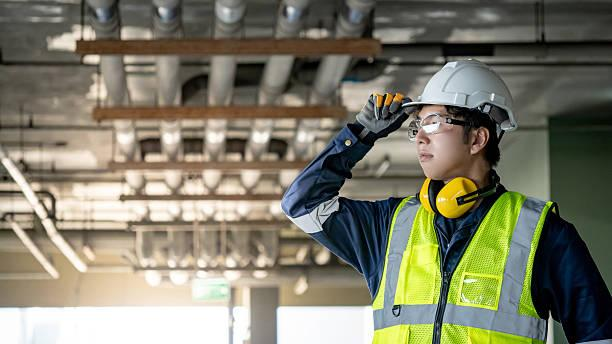goggle: (402, 106, 498, 145)
helmet: (394, 43, 520, 142)
vest: (367, 175, 562, 344)
